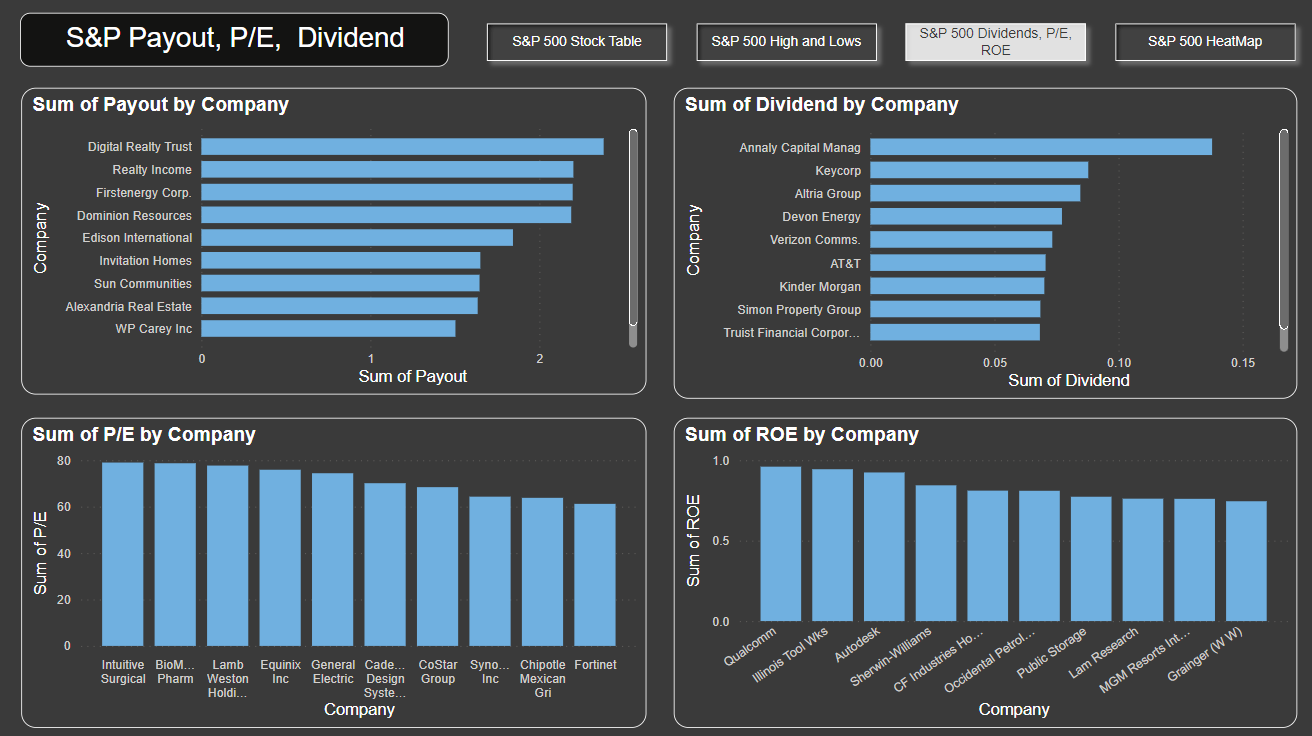

Layout of this report page (visuals, bound fields, positions):
{"tool":"powerbi","page":{"name":"S&P 500 Dividends, P/E, ROE","canvas":[1280,720],"ordinal":2},"visuals":[{"type":"barChart","fields":{"Y":["Sum(Full s&p 500 dividend stocks list.Dividend)"],"Category":["Full s&p 500 dividend stocks list.Company"]},"box":[654.7,90.4,601.9,300.3],"z":0},{"type":"columnChart","fields":{"Y":["Sum(Full s&p 500 dividend stocks list.P/E)"],"Category":["Full s&p 500 dividend stocks list.Company"]},"box":[25,408.7,603.3,298.9],"z":1000},{"type":"clusteredBarChart","fields":{"Category":["Full s&p 500 dividend stocks list.Company"],"Y":["Sum(Full s&p 500 dividend stocks list.Payout)"]},"box":[25,90.4,603.3,296.1],"z":2000},{"type":"clusteredColumnChart","fields":{"Category":["Full s&p 500 dividend stocks list.Company"],"Y":["Sum(Full s&p 500 dividend stocks list.ROE)"]},"box":[654.7,408.7,601.9,298.9],"z":3000},{"type":"pageNavigator","box":[465.9,18.7,799.2,54.4],"z":4000},{"type":"textbox","box":[24.1,18.1,413.7,51.9],"z":5000}]}

Visuals, with their boxes in screenshot pixels (x1, y1, x2, y2), scaled from the page's 1280x720 canvas onto the 1312x736 screenshot:
barChart - Sum(Full s&p 500 dividend stocks list.Dividend) x Full s&p 500 dividend stocks list.Company: <bbox>671, 92, 1288, 399</bbox>
columnChart - Sum(Full s&p 500 dividend stocks list.P/E) x Full s&p 500 dividend stocks list.Company: <bbox>26, 418, 644, 723</bbox>
clusteredBarChart - Full s&p 500 dividend stocks list.Company x Sum(Full s&p 500 dividend stocks list.Payout): <bbox>26, 92, 644, 395</bbox>
clusteredColumnChart - Full s&p 500 dividend stocks list.Company x Sum(Full s&p 500 dividend stocks list.ROE): <bbox>671, 418, 1288, 723</bbox>
pageNavigator: <bbox>478, 19, 1297, 75</bbox>
textbox: <bbox>25, 19, 449, 72</bbox>
